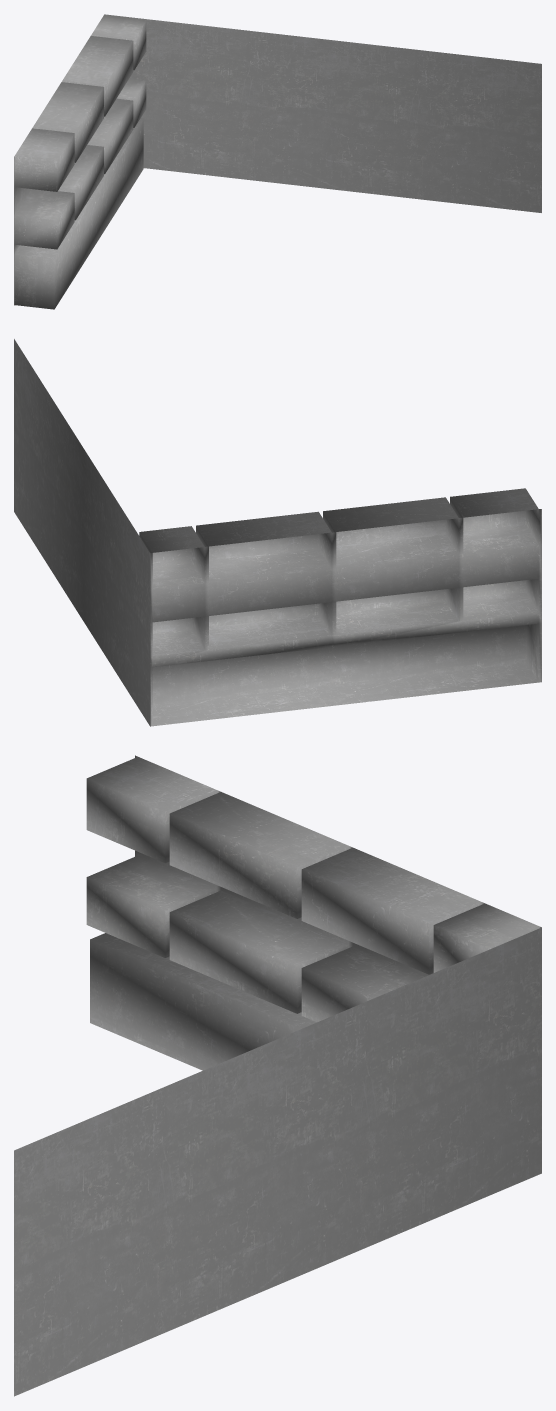
The model's file is tribune_vertical_short.fbx.
The picture shows the model from 3 angles, top to bottom: view 1: azimuth 30°, elevation 25°; view 2: azimuth 150°, elevation 25°; view 3: azimuth 270°, elevation 25°; orthographic projection. The views are drawn at different scales.
Visible parts, largest first — view 1: Cube_015; view 2: Cube_015; view 3: Cube_015.
Part boxes in pixels (bbox=[...]): Cube_015: bbox=[14, 14, 541, 309]; Cube_015: bbox=[14, 339, 541, 726]; Cube_015: bbox=[14, 755, 541, 1396].
Size of the model in its own units: 41.32 by 12 by 23.33.
